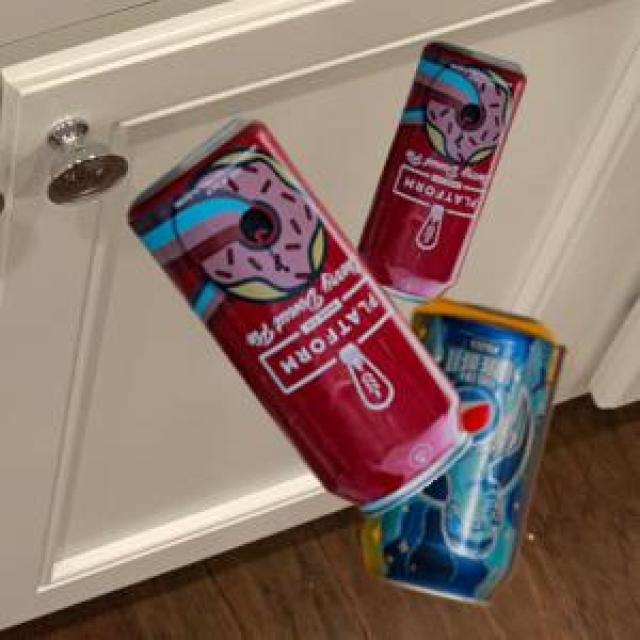logam: (125, 116, 468, 513), (359, 295, 562, 601), (355, 39, 524, 302)
